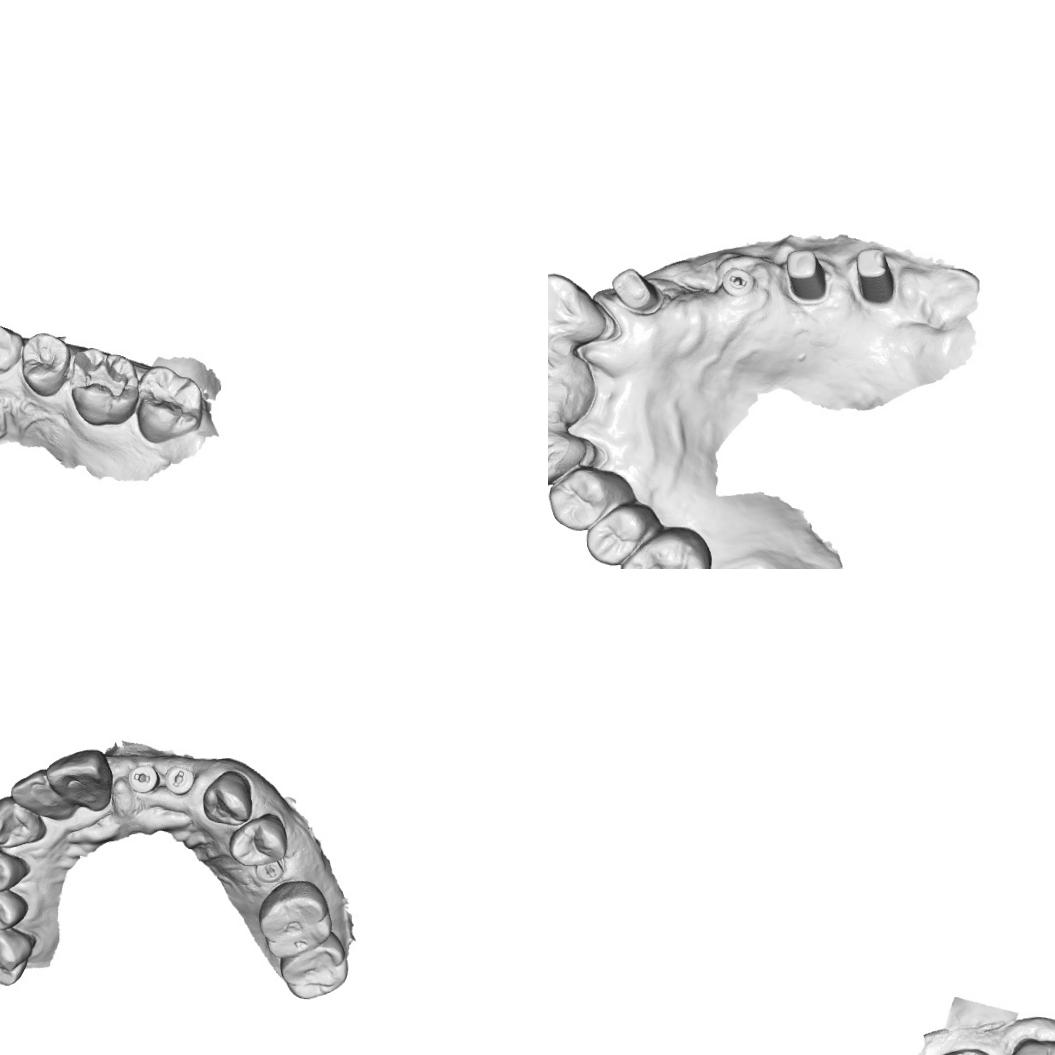abutment: (608, 263, 666, 318), (849, 245, 901, 306), (781, 246, 830, 304)
canine: (201, 769, 253, 826), (0, 794, 47, 849), (548, 426, 585, 490), (0, 321, 24, 376)
implant_minus: (720, 263, 756, 302), (126, 763, 161, 794), (163, 763, 195, 796), (254, 858, 284, 883)
incisor: (44, 746, 114, 812), (548, 270, 608, 344), (9, 767, 74, 822), (70, 359, 130, 399), (548, 323, 564, 391), (548, 383, 564, 437)
molar: (256, 878, 332, 962), (68, 346, 141, 430), (134, 363, 205, 446), (278, 928, 350, 1000), (614, 524, 713, 569), (0, 918, 38, 987)
premolar: (582, 500, 652, 568), (548, 465, 618, 531), (20, 331, 72, 398), (228, 811, 288, 868), (0, 845, 29, 894), (0, 887, 29, 931)
